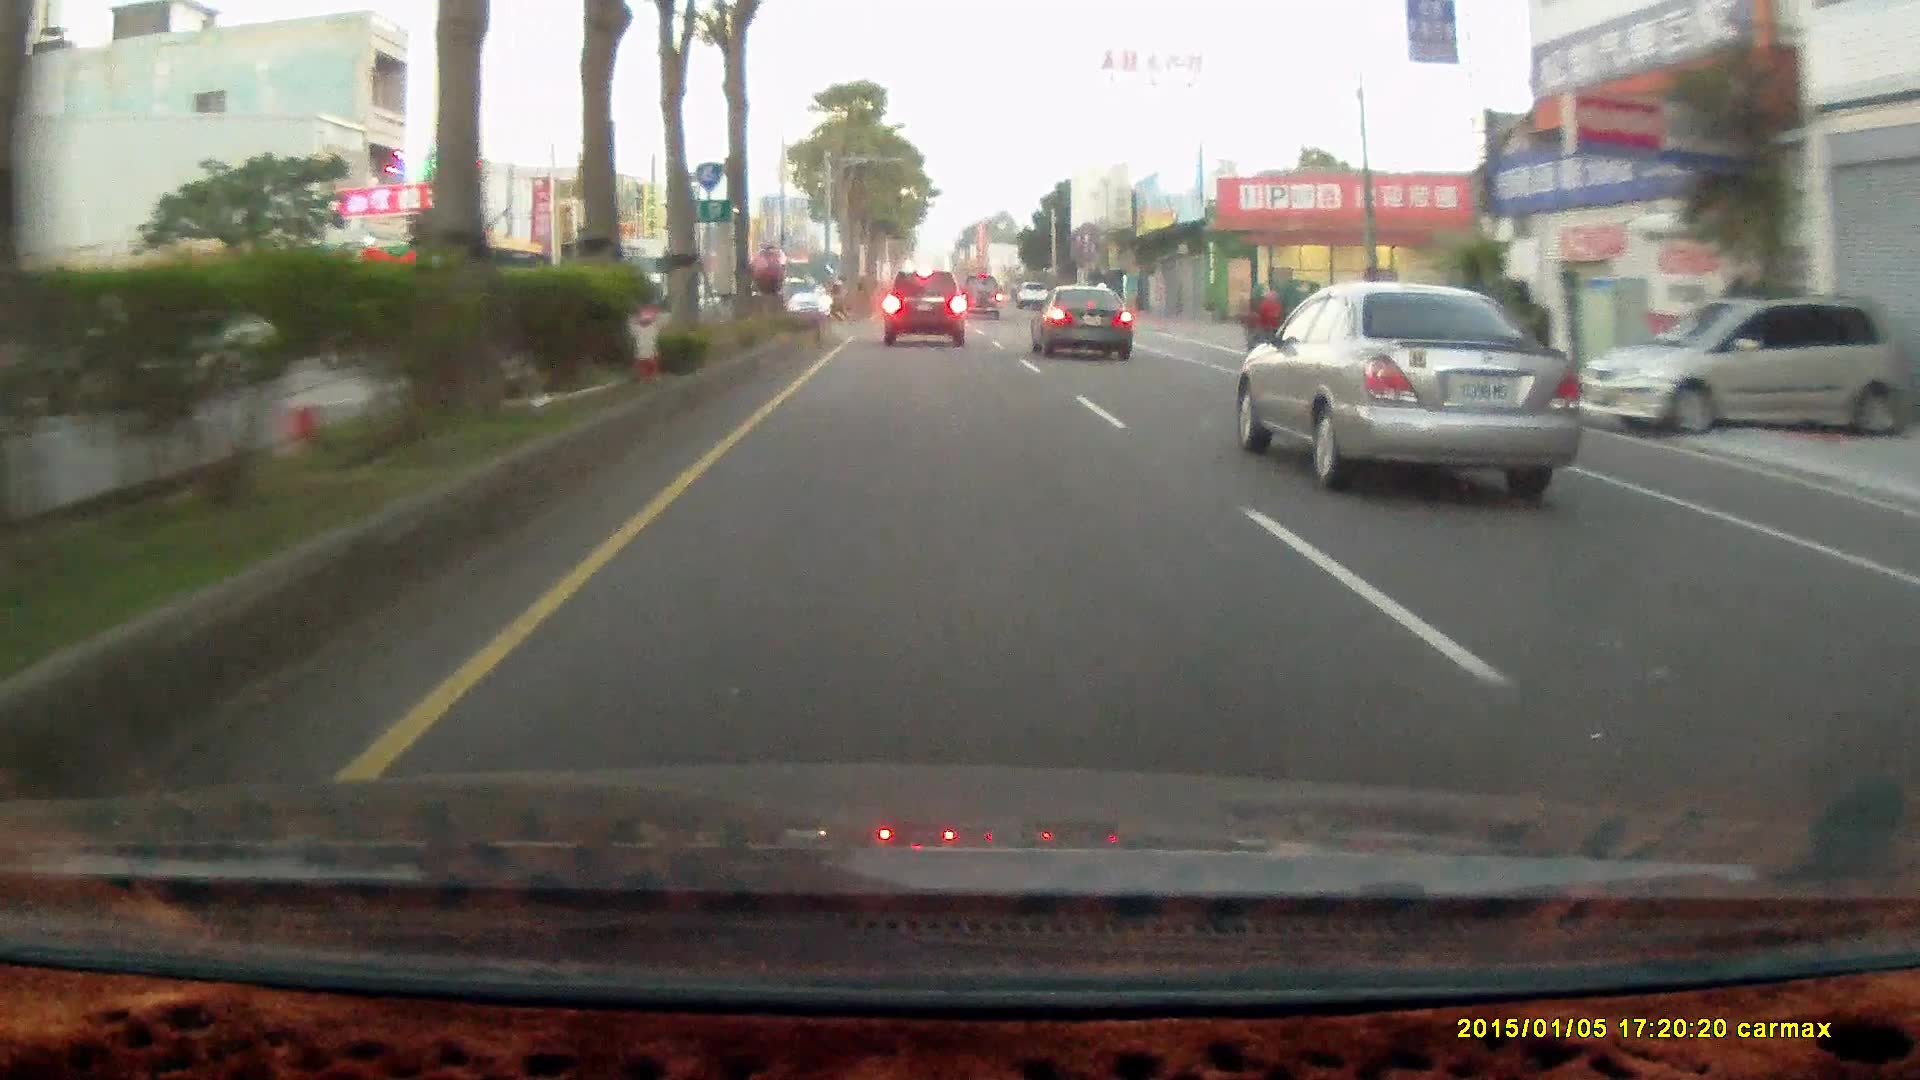pedestrian: (1255, 287, 1287, 364), (1258, 293, 1288, 364)
vehicle: (1238, 293, 1576, 505), (1584, 298, 1892, 446), (1586, 294, 1893, 442), (1030, 288, 1137, 367), (1029, 280, 1132, 359), (882, 269, 969, 350), (882, 273, 963, 348), (766, 274, 829, 330), (960, 277, 1004, 323), (959, 274, 1002, 320)
